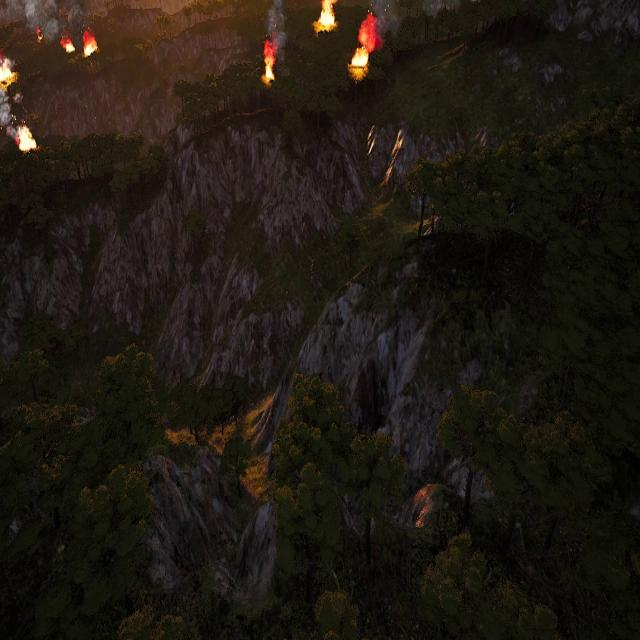fire: (348, 12, 377, 79), (314, 0, 338, 32), (263, 43, 279, 86), (0, 51, 18, 89), (17, 128, 36, 152), (83, 34, 99, 55), (63, 39, 78, 50)
smoke: (21, 0, 81, 47), (358, 0, 413, 50), (264, 0, 287, 53), (0, 95, 18, 136)
